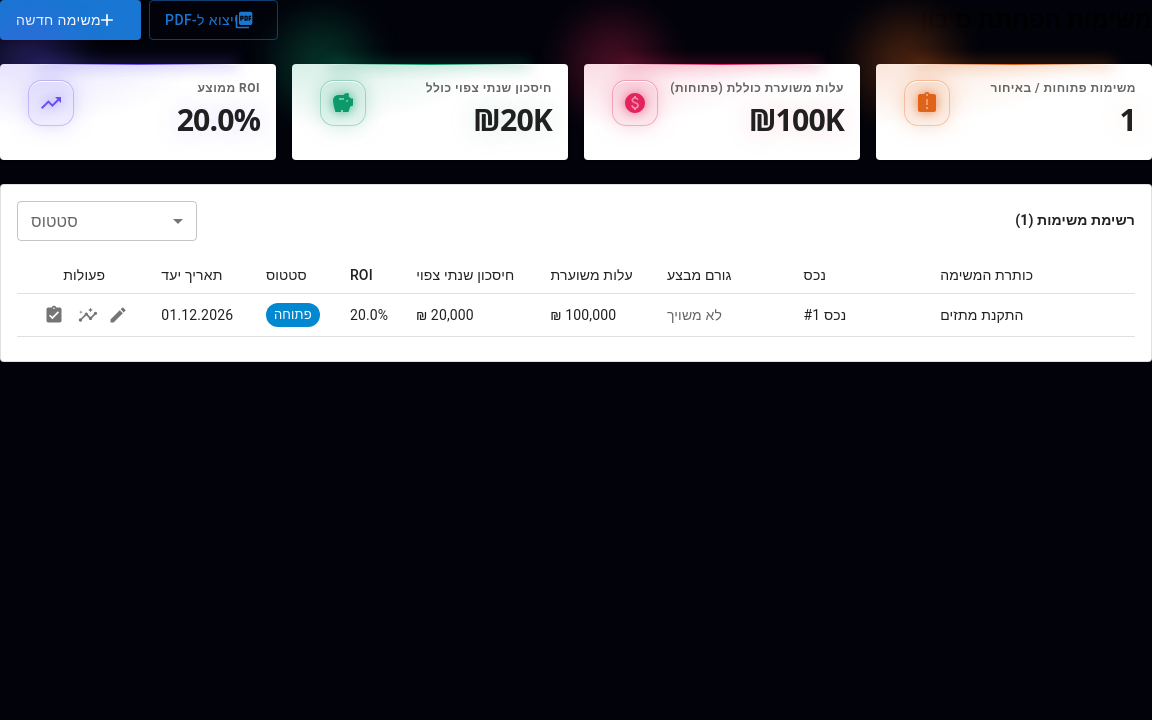
Scenario: Mitigation — mark complete › shows why marking complete failed
Expected: the text "התקנת מתזים" is shown, [930,294,1135,337]
Click the 3rd button: (54, 315) [39,300,69,330]
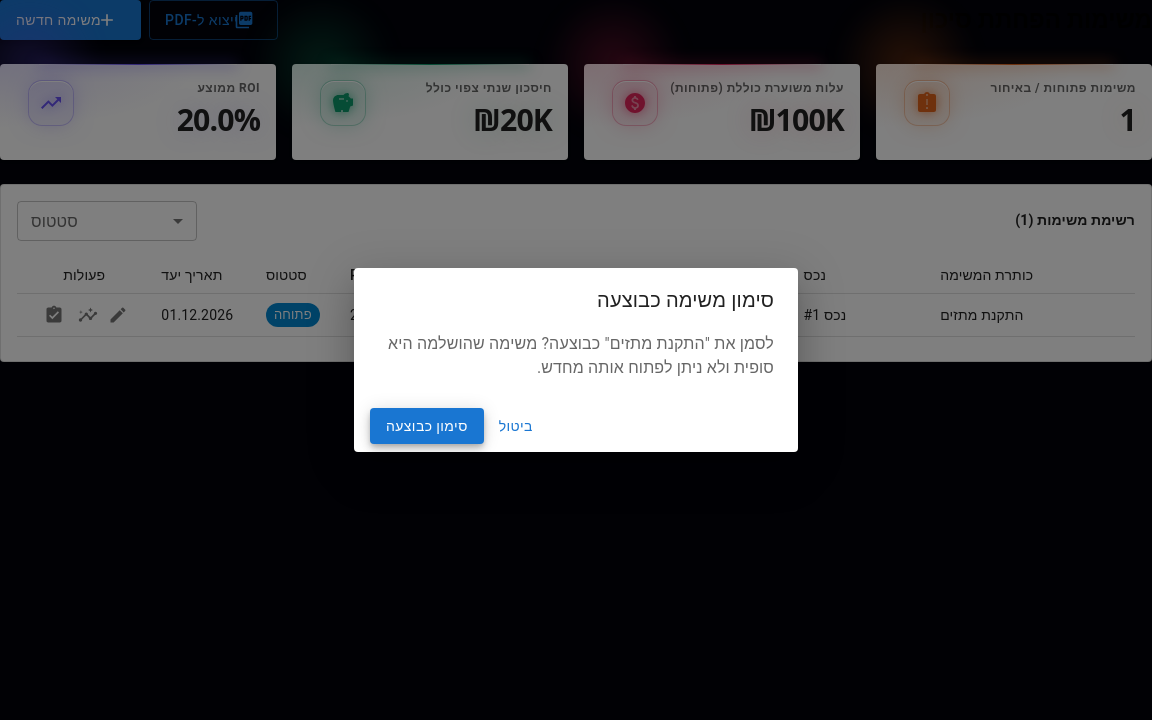
Click the button "סימון כבוצעה": (427, 426) [370,408,484,444]
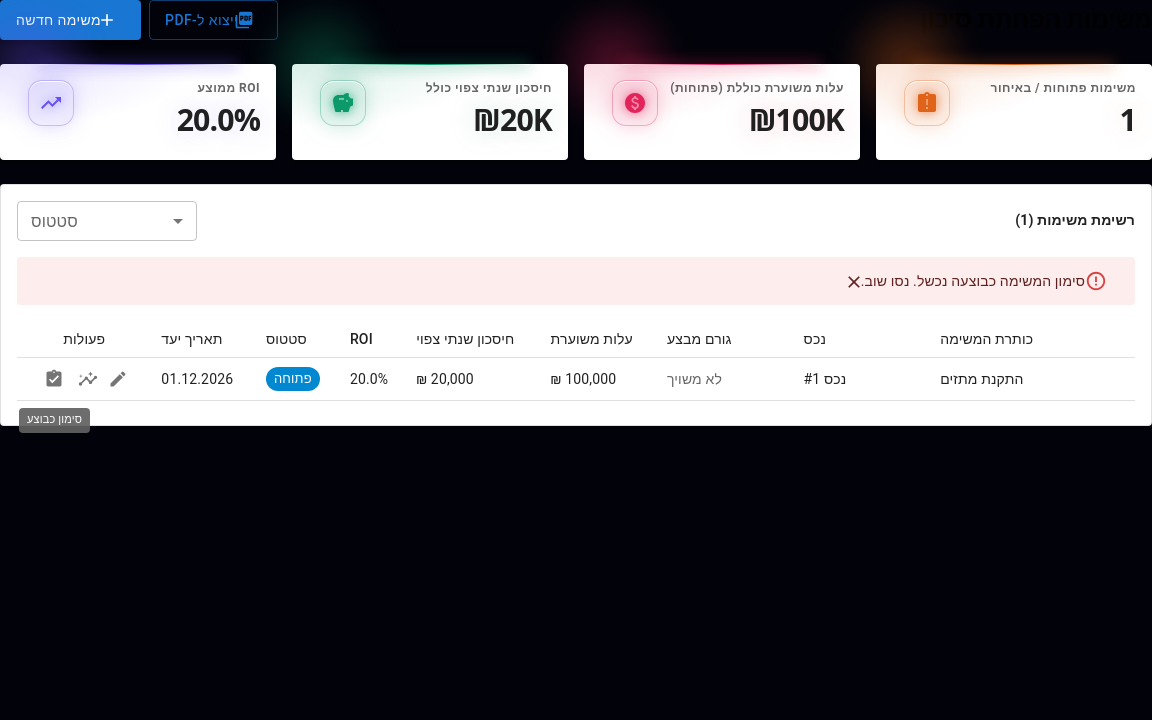
Now the text "סימון המשימה כבוצעה נכשל. נסו שוב." is shown, box [861,273,1085,289]
